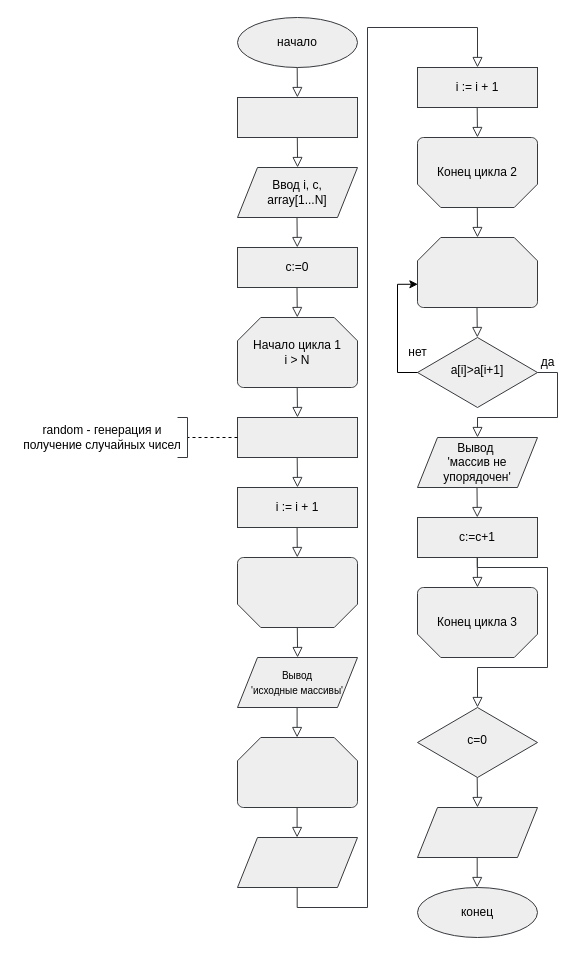
This 585x955 diagram has some shape labels left out. Each missing label, with the centre of its shape:
"a[i]:=random(5)" goes at pixel 297 437.
"CONST N=5" goes at pixel 297 117.
"Вывод 'массив упорядочен'" goes at pixel 477 832.
"Вывод (a[i], ' ')" goes at pixel 297 862.
"Конец цикла 1" goes at pixel 297 592.
"Начало цикла 2 i > N" goes at pixel 297 772.
"Начало цикла 3 i > N" goes at pixel 477 272.
